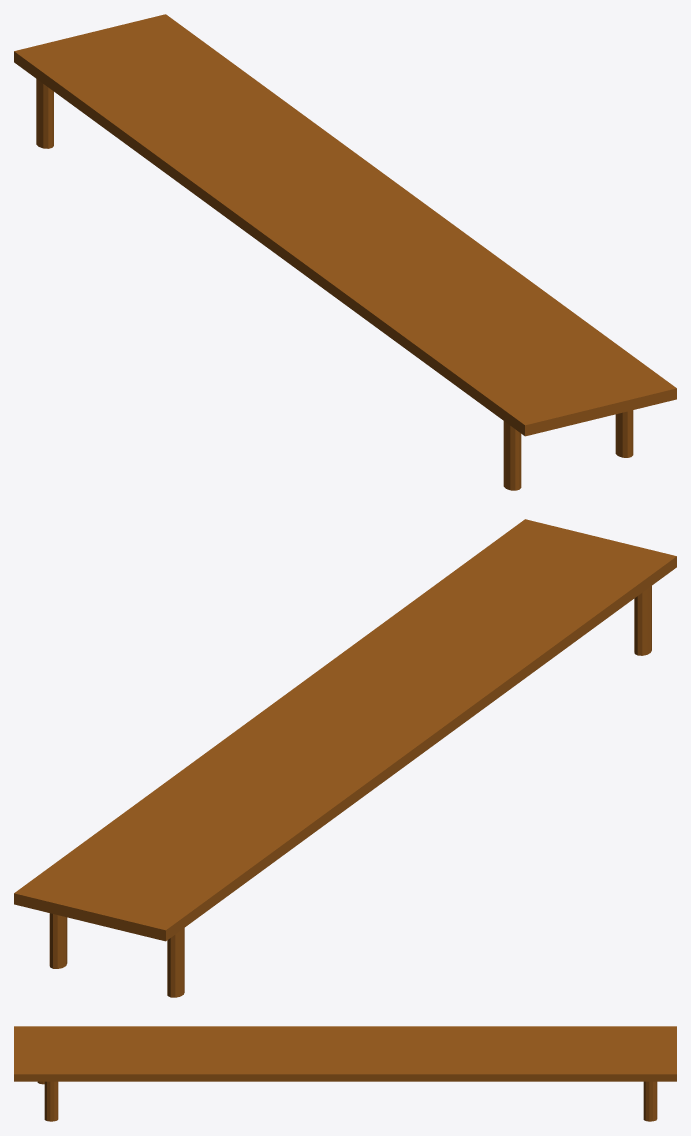
The model's file is Mesa.fbx.
The picture shows the model from 3 angles, top to bottom: view 1: azimuth 30°, elevation 25°; view 2: azimuth 150°, elevation 25°; view 3: azimuth 270°, elevation 25°; orthographic projection. The views are drawn at different scales.
Parts seen in each view (by area): view 1: Cube.033; view 2: Cube.033; view 3: Cube.033.
Boxes of the visible parts, <box> form: Cube.033: <box>14,14,676,490</box>; Cube.033: <box>14,519,676,997</box>; Cube.033: <box>14,1026,676,1121</box>.
Size of the model in its own units: 1209 by 615 by 7047.
